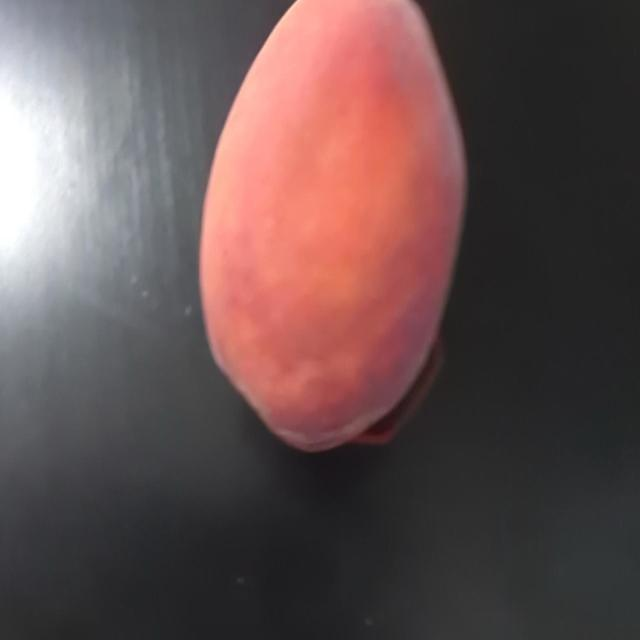Apel Gala: (201, 6, 468, 458)
